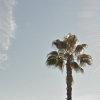Palm tree: (38, 21, 96, 96)
